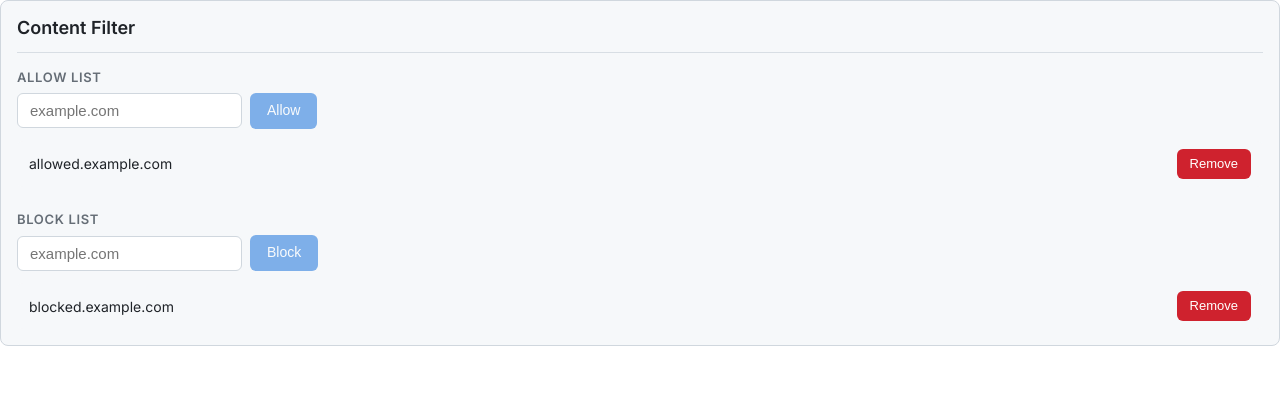
Scenario: ContentFilterCard › a successful allow confirmation re-fetches
This screenshot has width=1280, height=417.
Check: the text "allowed.example.com" is shown, box left=29, top=153, right=172, bottom=174
In the field with placeholder "example.com" below "Allow List": (130, 111) left=17, top=93, right=242, bottom=128, type "new.example.com"
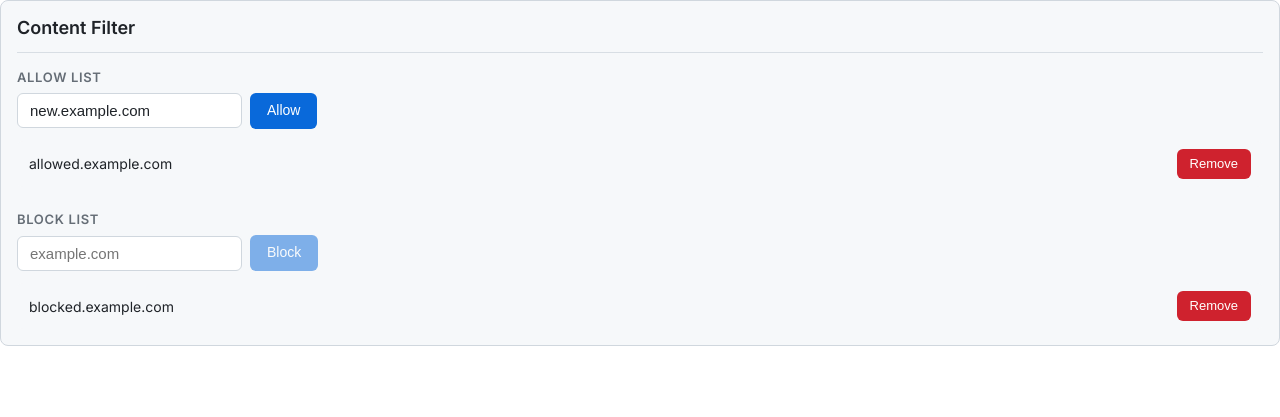
Click the button "Allow": (284, 111) left=250, top=93, right=318, bottom=129
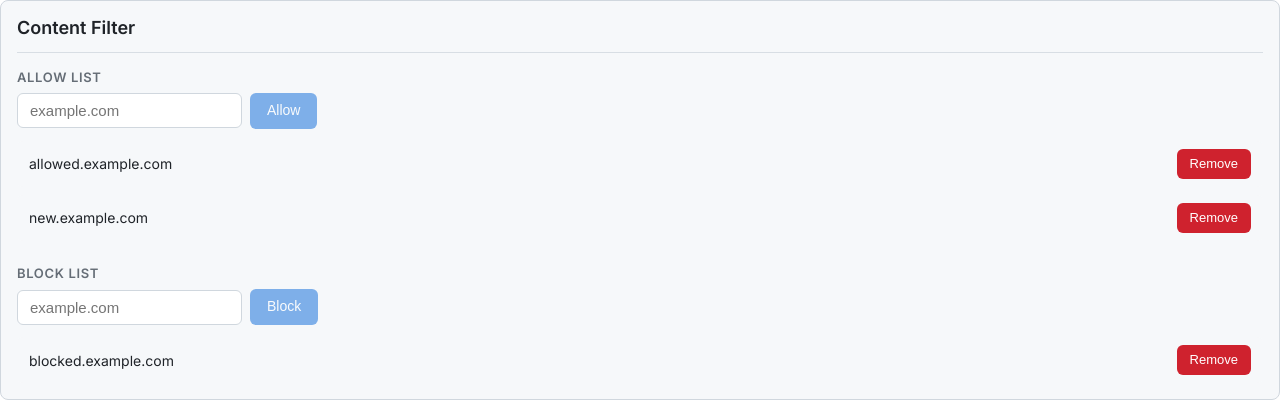
Check: the text "new.example.com" is shown, box left=29, top=207, right=148, bottom=228
